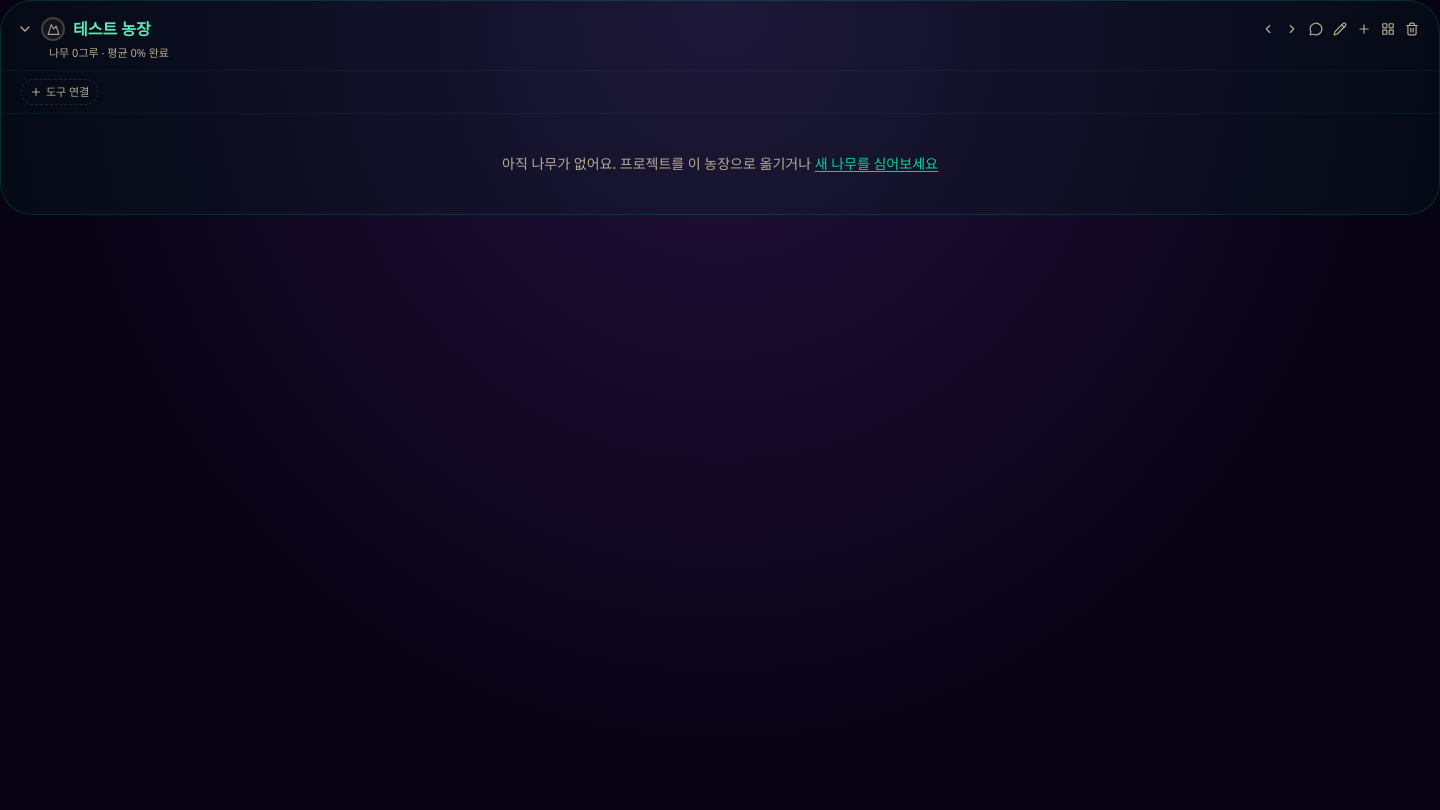
Test: FarmCard 순서 변경 버튼 › 만다라트 버튼 클릭 → 만다라트 오버레이 표시
The width and height of the screenshot is (1440, 810).
Click the button named "만다라트 보기". click: click(1388, 29)
box: left=1377, top=18, right=1399, bottom=40
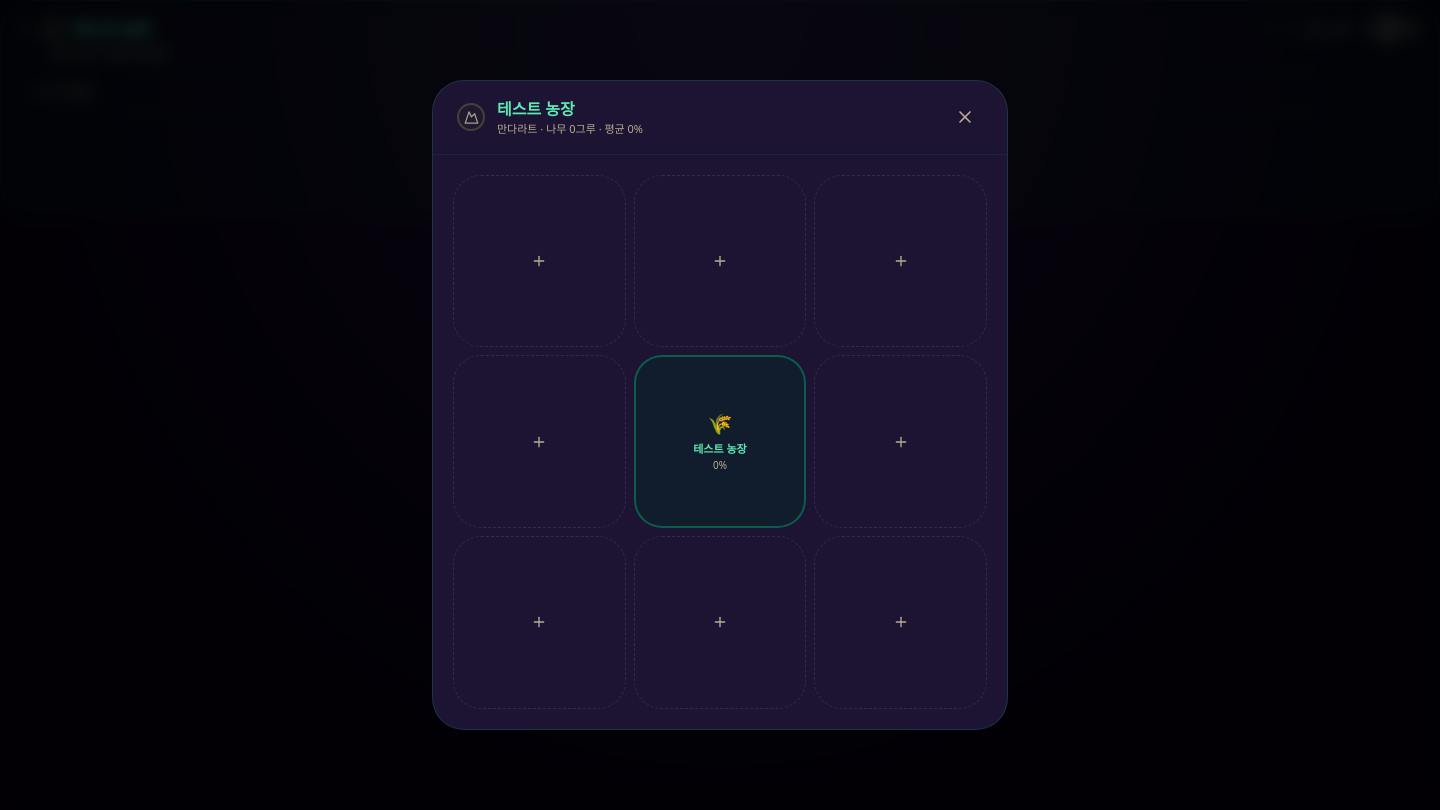
Check: the element with test id "mandalart-center" is shown, box left=634, top=355, right=806, bottom=528
